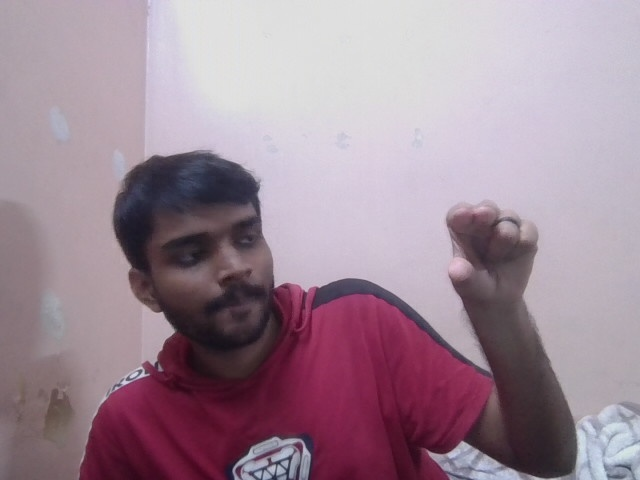No: (441, 201, 546, 306)
